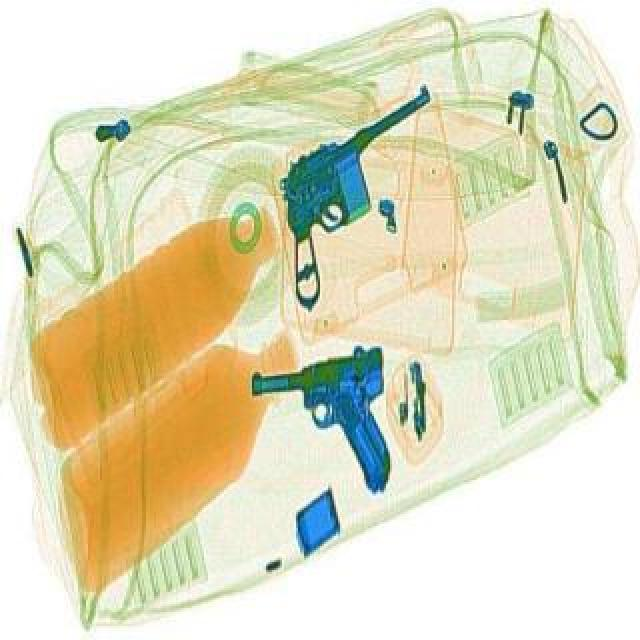gun: (268, 96, 464, 316), (250, 346, 410, 510)
